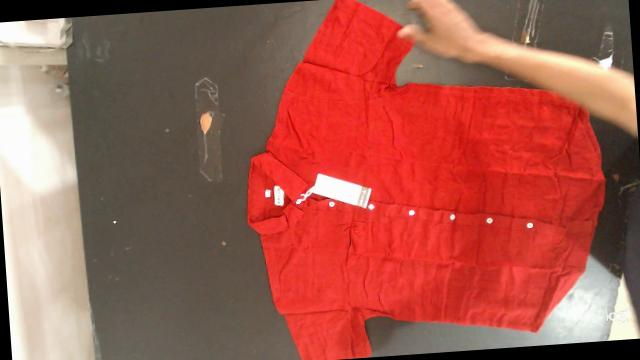new-garment: (247, 0, 604, 360)
